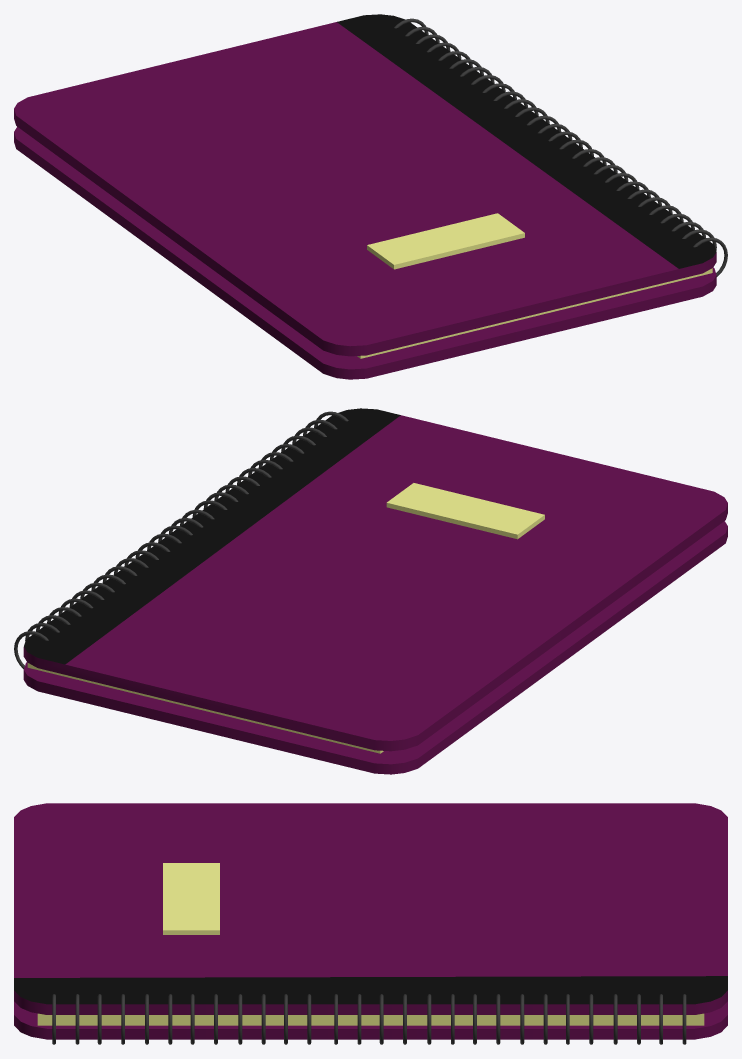
File: ReferenceMaterialPink(Audio).FBX
The picture shows the model from 3 angles, top to bottom: view 1: azimuth 30°, elevation 25°; view 2: azimuth 150°, elevation 25°; view 3: azimuth 270°, elevation 25°; orthographic projection. The views are drawn at different scales.
Parts seen in each view (by area): view 1: ReferenceMaterial; view 2: ReferenceMaterial; view 3: ReferenceMaterial.
Part boxes in pixels (x1,y1,x2,y2): ReferenceMaterial: [14, 14, 727, 379]; ReferenceMaterial: [14, 408, 727, 774]; ReferenceMaterial: [14, 803, 727, 1044].
Size of the model in its own units: 0.2085 by 0.0214 by 0.3.
